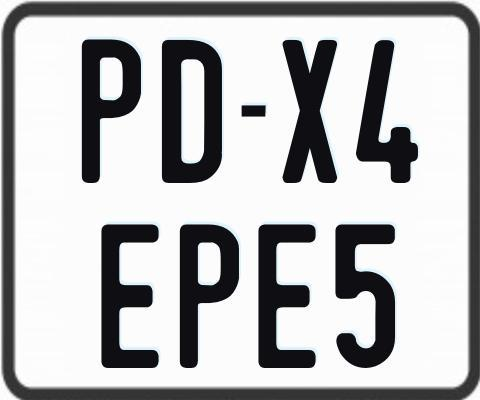4: (353, 37, 416, 182)
5: (332, 223, 395, 371)
D: (160, 39, 220, 184)
E: (98, 221, 160, 367), (255, 222, 314, 370)
P: (81, 38, 141, 185), (179, 224, 239, 368)
X: (282, 39, 342, 187)
